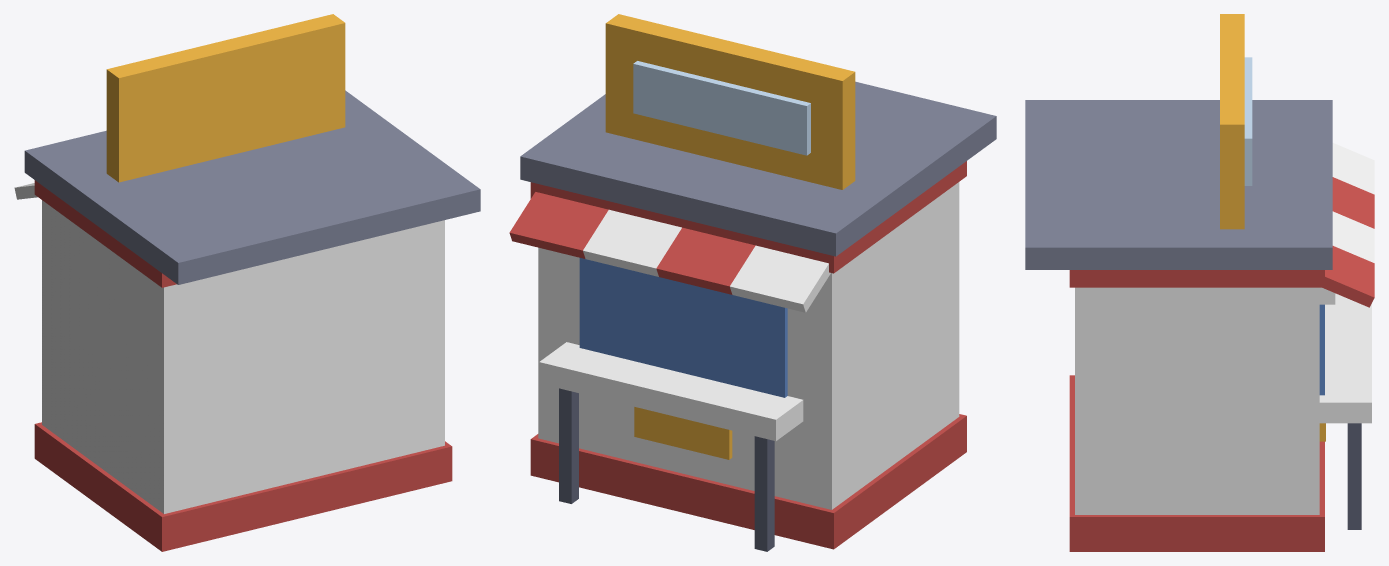
Rendered from caisse-foraine.glb.
3 renders of one model, left to right at view 1: azimuth 30°, elevation 25°; view 2: azimuth 150°, elevation 25°; view 3: azimuth 270°, elevation 25°, orthographic. The views are drawn at different scales.
Visible parts, largest first — view 1: corps, toit, enseigne, soubassement, bandeau; view 2: corps, toit, enseigne, guichet-vitre, soubassement, tablette, enseigne-neon, bandeau, auvent-bande-0, auvent-bande-2, auvent-bande-1, auvent-bande-3 (+3 smaller); view 3: corps, toit, soubassement, tablette, enseigne, bandeau, auvent-bande-3, console-1, auvent-bande-0, auvent-bande-1, auvent-bande-2, enseigne-neon (+1 smaller).
Part boxes in pixels (x1=…): corps: x1=42, y1=200, x2=444, y2=513; toit: x1=24, y1=90, x2=480, y2=284; enseigne: x1=106, y1=14, x2=345, y2=182; soubassement: x1=34, y1=422, x2=452, y2=551; bandeau: x1=34, y1=180, x2=176, y2=287; corps: x1=538, y1=182, x2=959, y2=509; toit: x1=520, y1=81, x2=996, y2=256; enseigne: x1=605, y1=14, x2=855, y2=189; guichet-vitre: x1=579, y1=258, x2=787, y2=397; soubassement: x1=530, y1=414, x2=966, y2=549; tablette: x1=539, y1=342, x2=803, y2=441; enseigne-neon: x1=633, y1=61, x2=810, y2=155; bandeau: x1=530, y1=161, x2=966, y2=273; auvent-bande-0: x1=730, y1=245, x2=830, y2=312; auvent-bande-2: x1=583, y1=209, x2=681, y2=276; auvent-bande-1: x1=656, y1=227, x2=755, y2=294; auvent-bande-3: x1=509, y1=192, x2=608, y2=258; corps: x1=1075, y1=287, x2=1319, y2=514; toit: x1=1025, y1=100, x2=1332, y2=269; soubassement: x1=1069, y1=375, x2=1324, y2=551; tablette: x1=1319, y1=293, x2=1371, y2=423; enseigne: x1=1220, y1=14, x2=1244, y2=229; bandeau: x1=1069, y1=270, x2=1324, y2=287; auvent-bande-3: x1=1322, y1=246, x2=1374, y2=307; console-1: x1=1347, y1=423, x2=1361, y2=529; auvent-bande-0: x1=1332, y1=143, x2=1374, y2=194; auvent-bande-1: x1=1332, y1=177, x2=1374, y2=228; auvent-bande-2: x1=1332, y1=211, x2=1374, y2=262; enseigne-neon: x1=1244, y1=57, x2=1252, y2=185.
Bounding box in the file's own units: 0.1 × 0.13 × 0.1.
